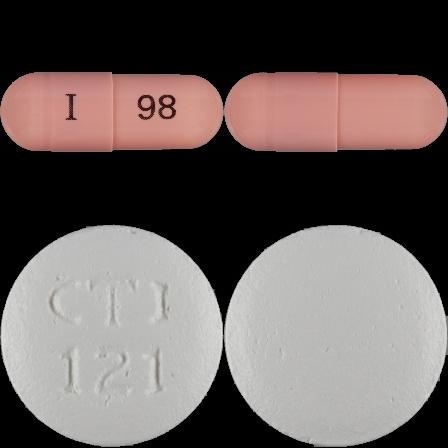50090-1042: (0, 0, 224, 224)
